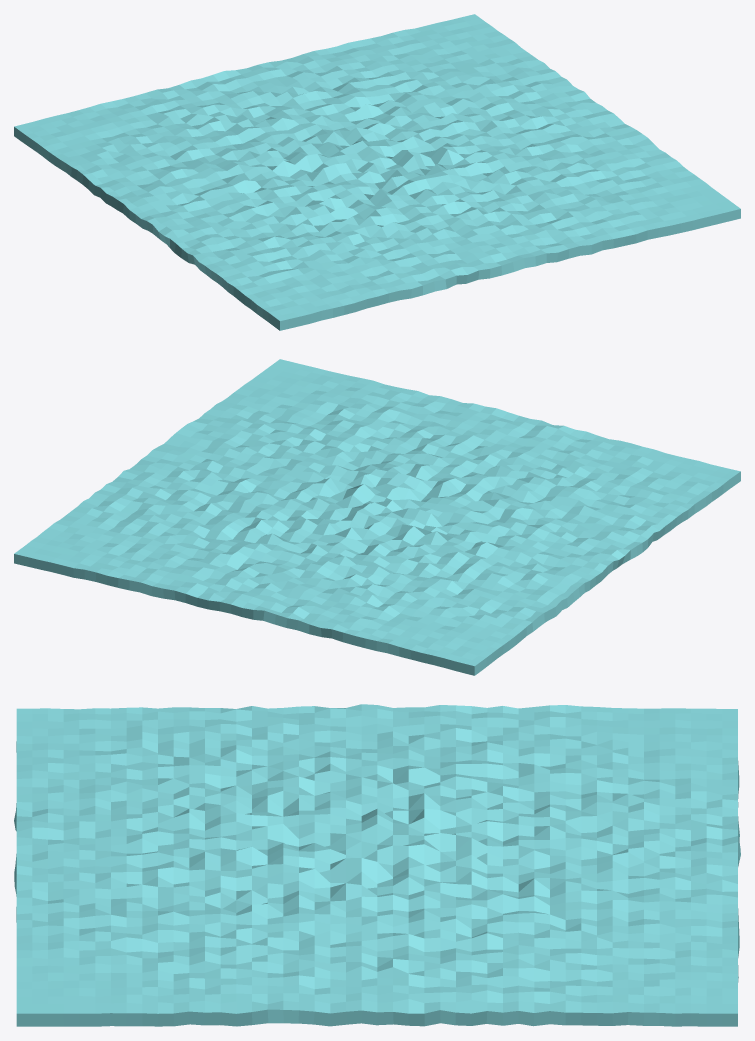
Rendered from charco.fbx.
The picture shows the model from 3 angles, top to bottom: view 1: azimuth 30°, elevation 25°; view 2: azimuth 150°, elevation 25°; view 3: azimuth 270°, elevation 25°; orthographic projection. The views are drawn at different scales.
Parts seen in each view (by area): view 1: Plane; view 2: Plane; view 3: Plane.
Part boxes in pixels (left/top/right/bottom): Plane: left=14, top=14, right=740, bottom=330; Plane: left=14, top=359, right=740, bottom=675; Plane: left=14, top=704, right=740, bottom=1026.
Bounding box in the file's own units: 1018 × 54.83 × 1021.
